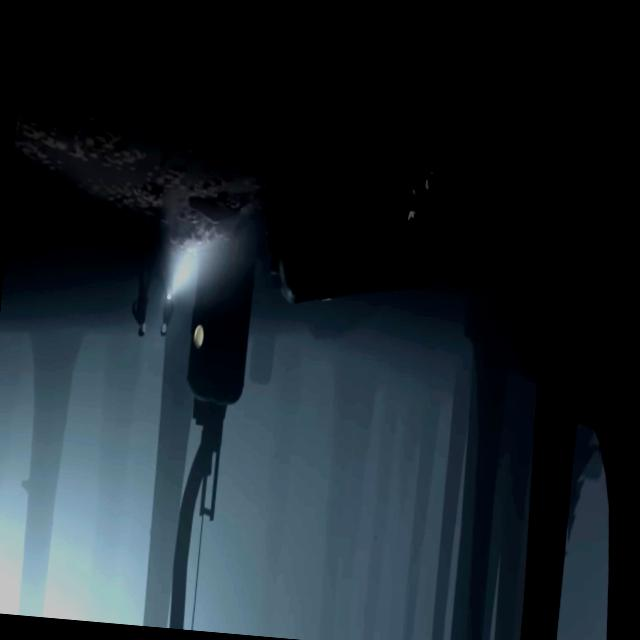boy: (405, 163, 435, 234)
